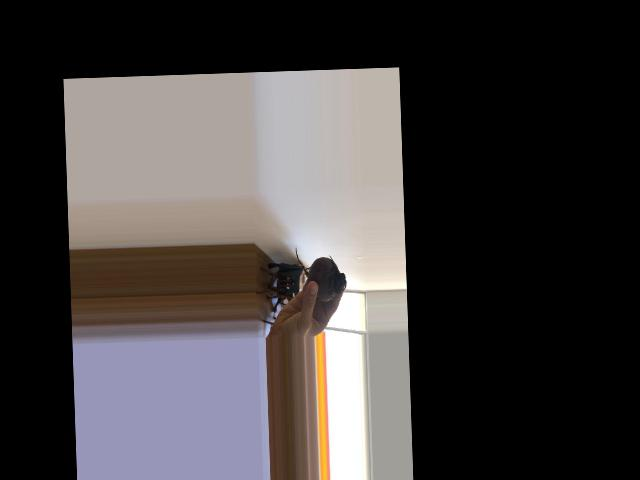beet: (295, 244, 347, 302)
